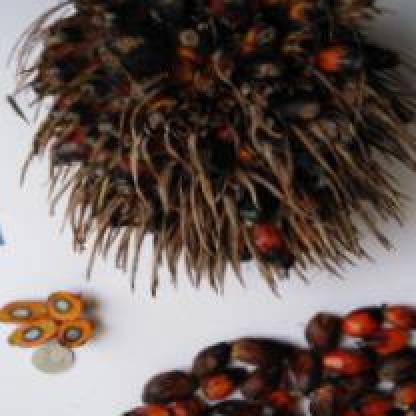Unripe: (0, 0, 416, 334)
